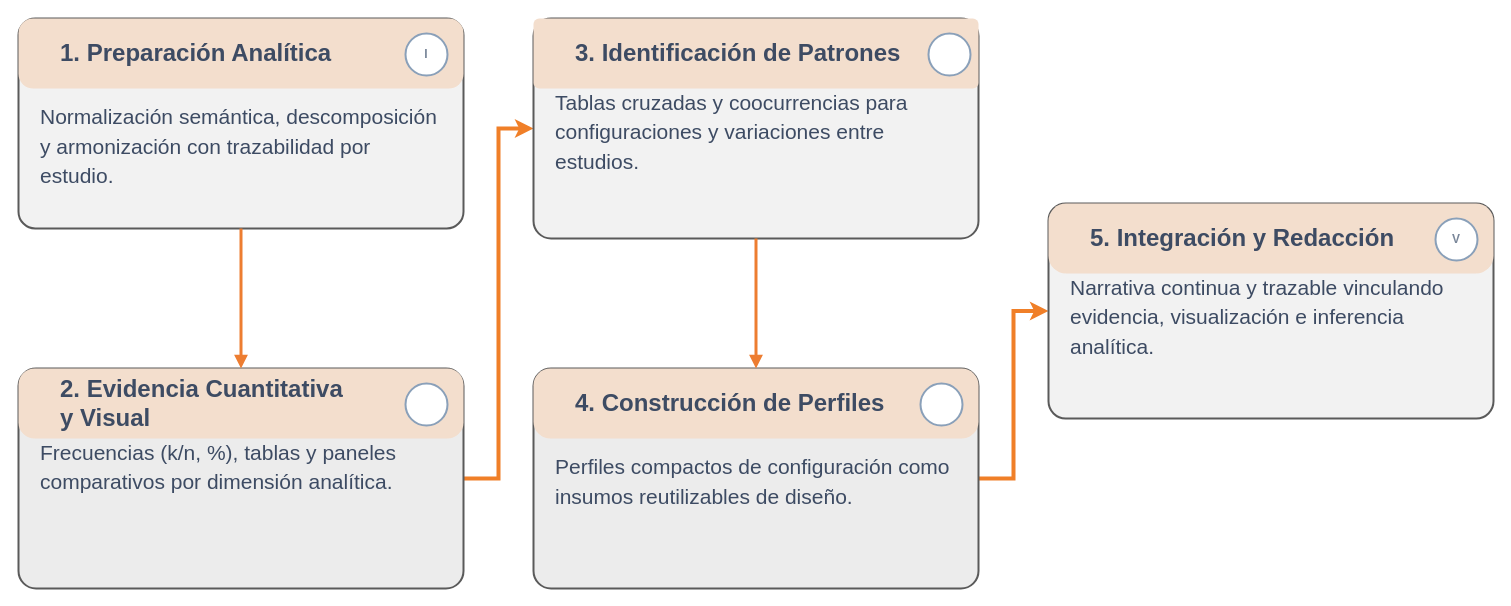
The diagram is 1511 pixels wide and 606 high, and some of its shapes have lost their labels. Each missing label, with the centre of its shape:
"II" goes at pixel 426 404.
"III" goes at pixel 949 54.
"IV" goes at pixel 941 404.
